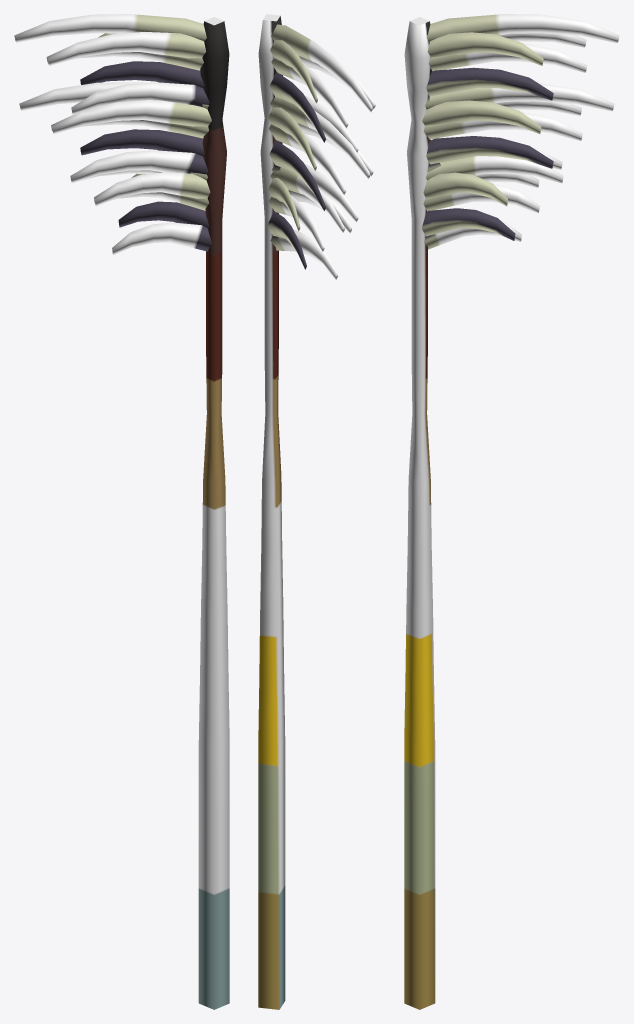
The model's file is SMFol_Pampa.fbx.
3 renders of one model, left to right at view 1: azimuth 90°, elevation 25°; view 2: azimuth 210°, elevation 25°; view 3: azimuth 270°, elevation 25°, orthographic.
Visible parts, largest first — view 1: SMFol_Pampa; view 2: SMFol_Pampa; view 3: SMFol_Pampa.
Part boxes in pixels (box(x1,y1,x2,y2)): SMFol_Pampa: box(14, 14, 229, 1009); SMFol_Pampa: box(258, 14, 375, 1009); SMFol_Pampa: box(404, 14, 619, 1009).
Bounding box in the file's own units: 12.37 × 301 × 59.36.
